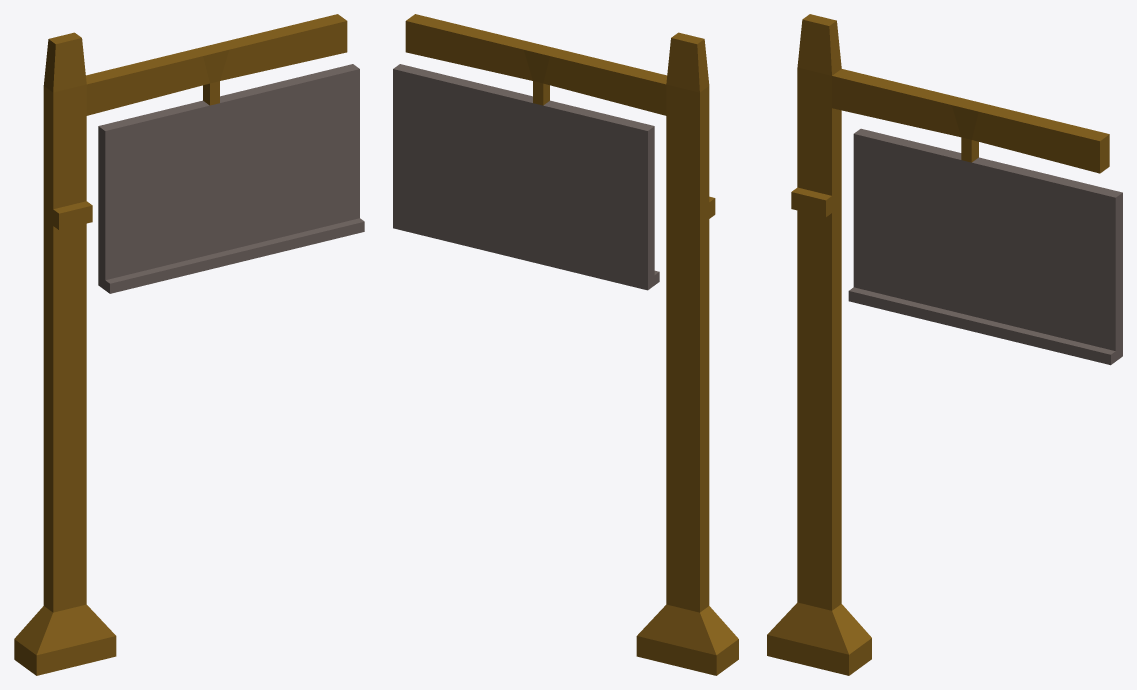
The model's file is panneau-2.fbx.
3 views of the same model, side by side, from view 1: azimuth 30°, elevation 25°; view 2: azimuth 150°, elevation 25°; view 3: azimuth 330°, elevation 25° (orthographic). The views are drawn at different scales.
Parts seen in each view (by area): view 1: Panneau.001, Panneau; view 2: Panneau.001, Panneau; view 3: Panneau.001, Panneau.
Part boxes in pixels (<box>): Panneau.001: <box>98,64,364,293</box>; Panneau: <box>14,14,347,675</box>; Panneau.001: <box>393,64,659,290</box>; Panneau: <box>405,14,738,675</box>; Panneau.001: <box>848,128,1122,365</box>; Panneau: <box>767,14,1109,675</box>.
Size of the model in its own units: 118 by 211 by 13.81.
